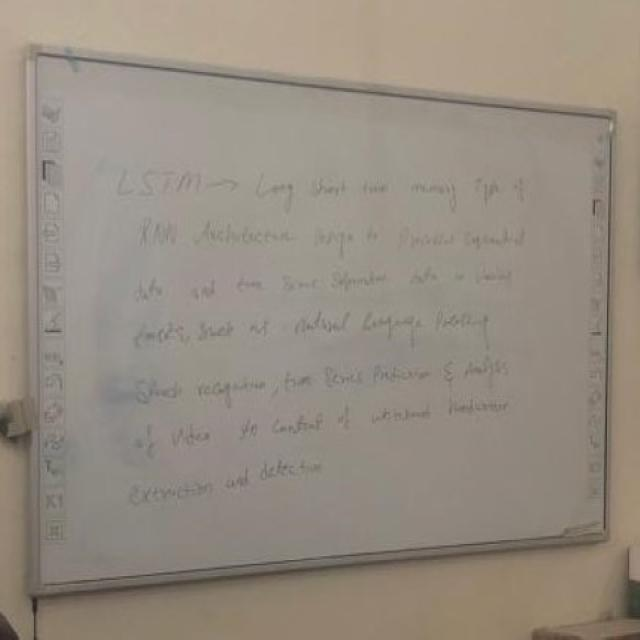White-board: (32, 52, 611, 593)
